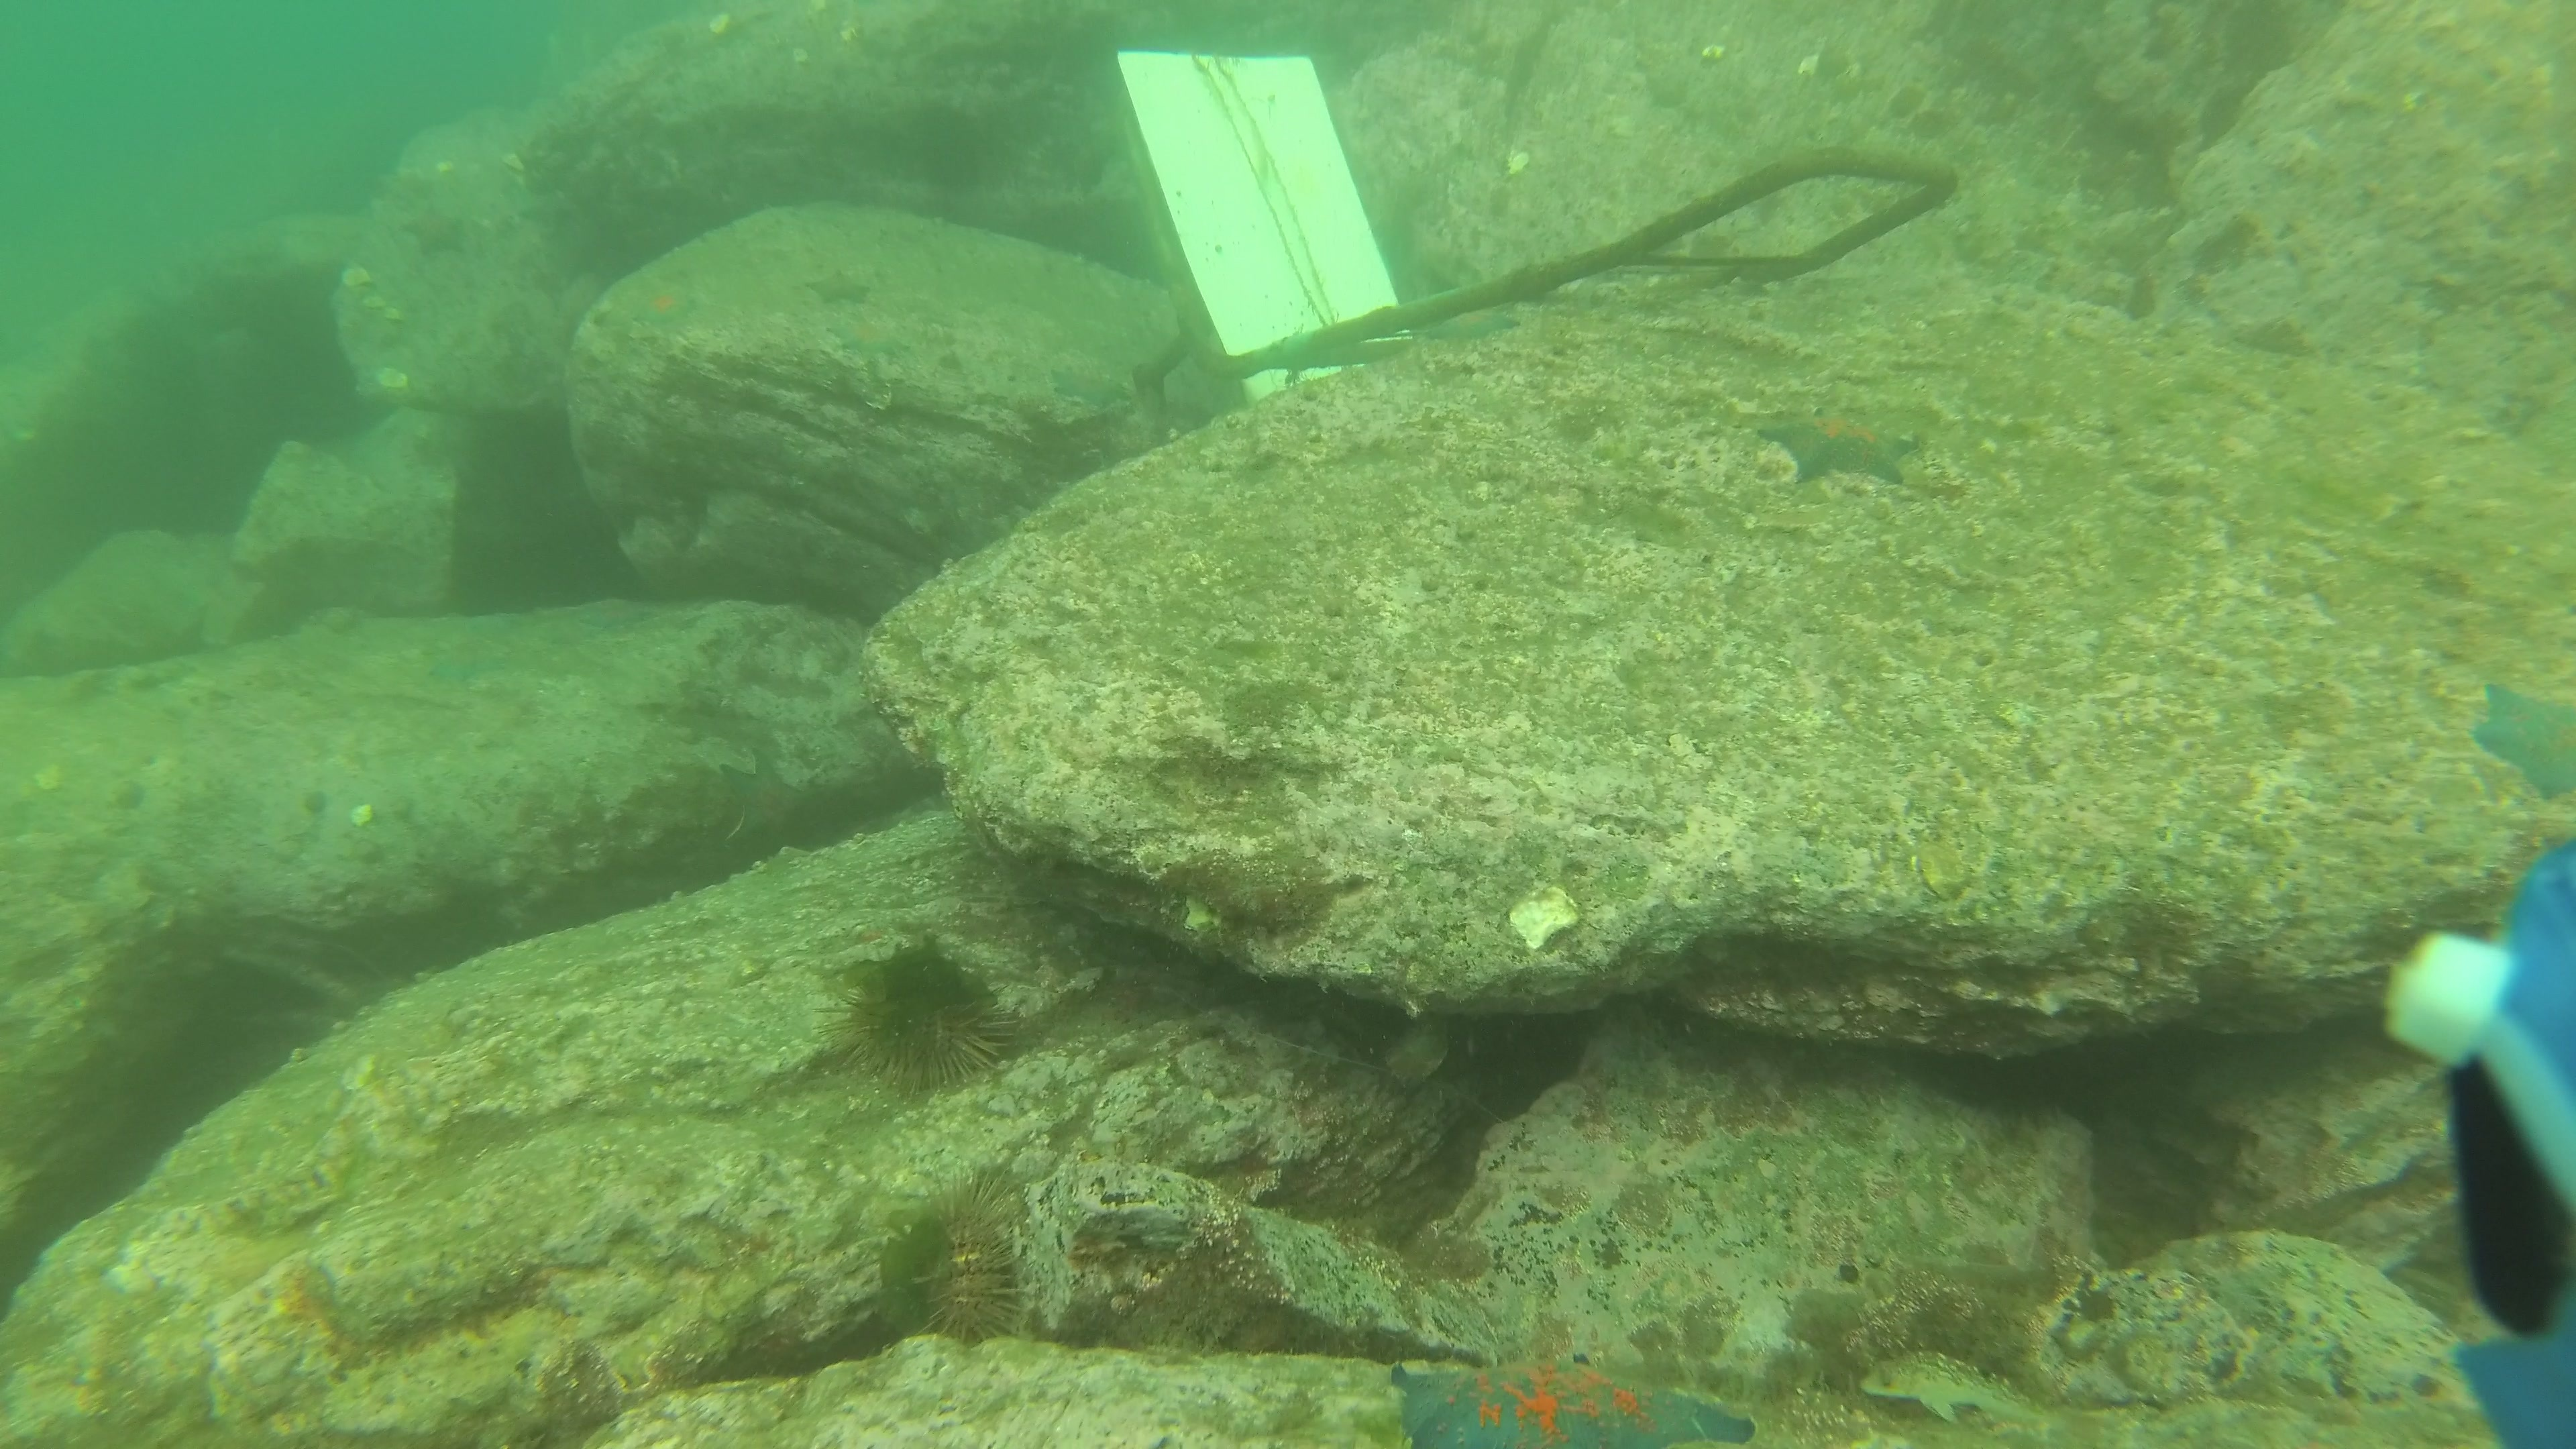echinus: (821, 943, 1030, 1099), (902, 1161, 1046, 1353)
starfish: (1385, 1350, 1762, 1449), (1755, 400, 1927, 490), (2466, 679, 2576, 809), (1044, 361, 1139, 416), (400, 198, 478, 260), (828, 311, 915, 364), (1415, 308, 1529, 347), (626, 274, 702, 331), (801, 262, 874, 306)
